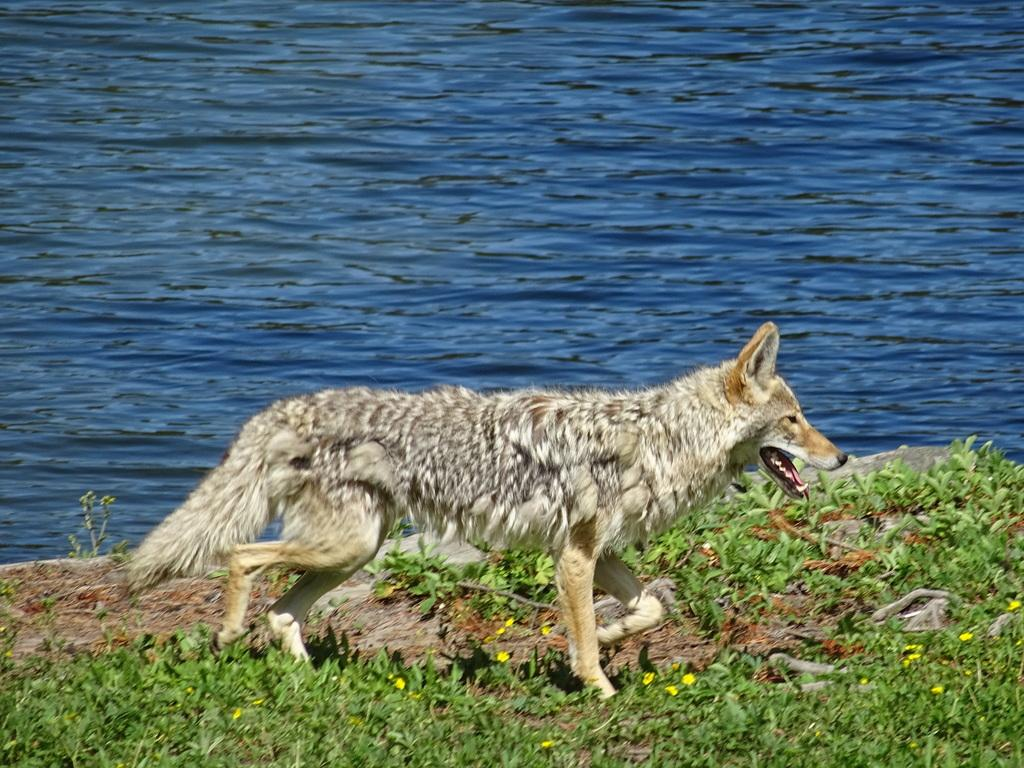Coyote: (113, 312, 852, 712)
